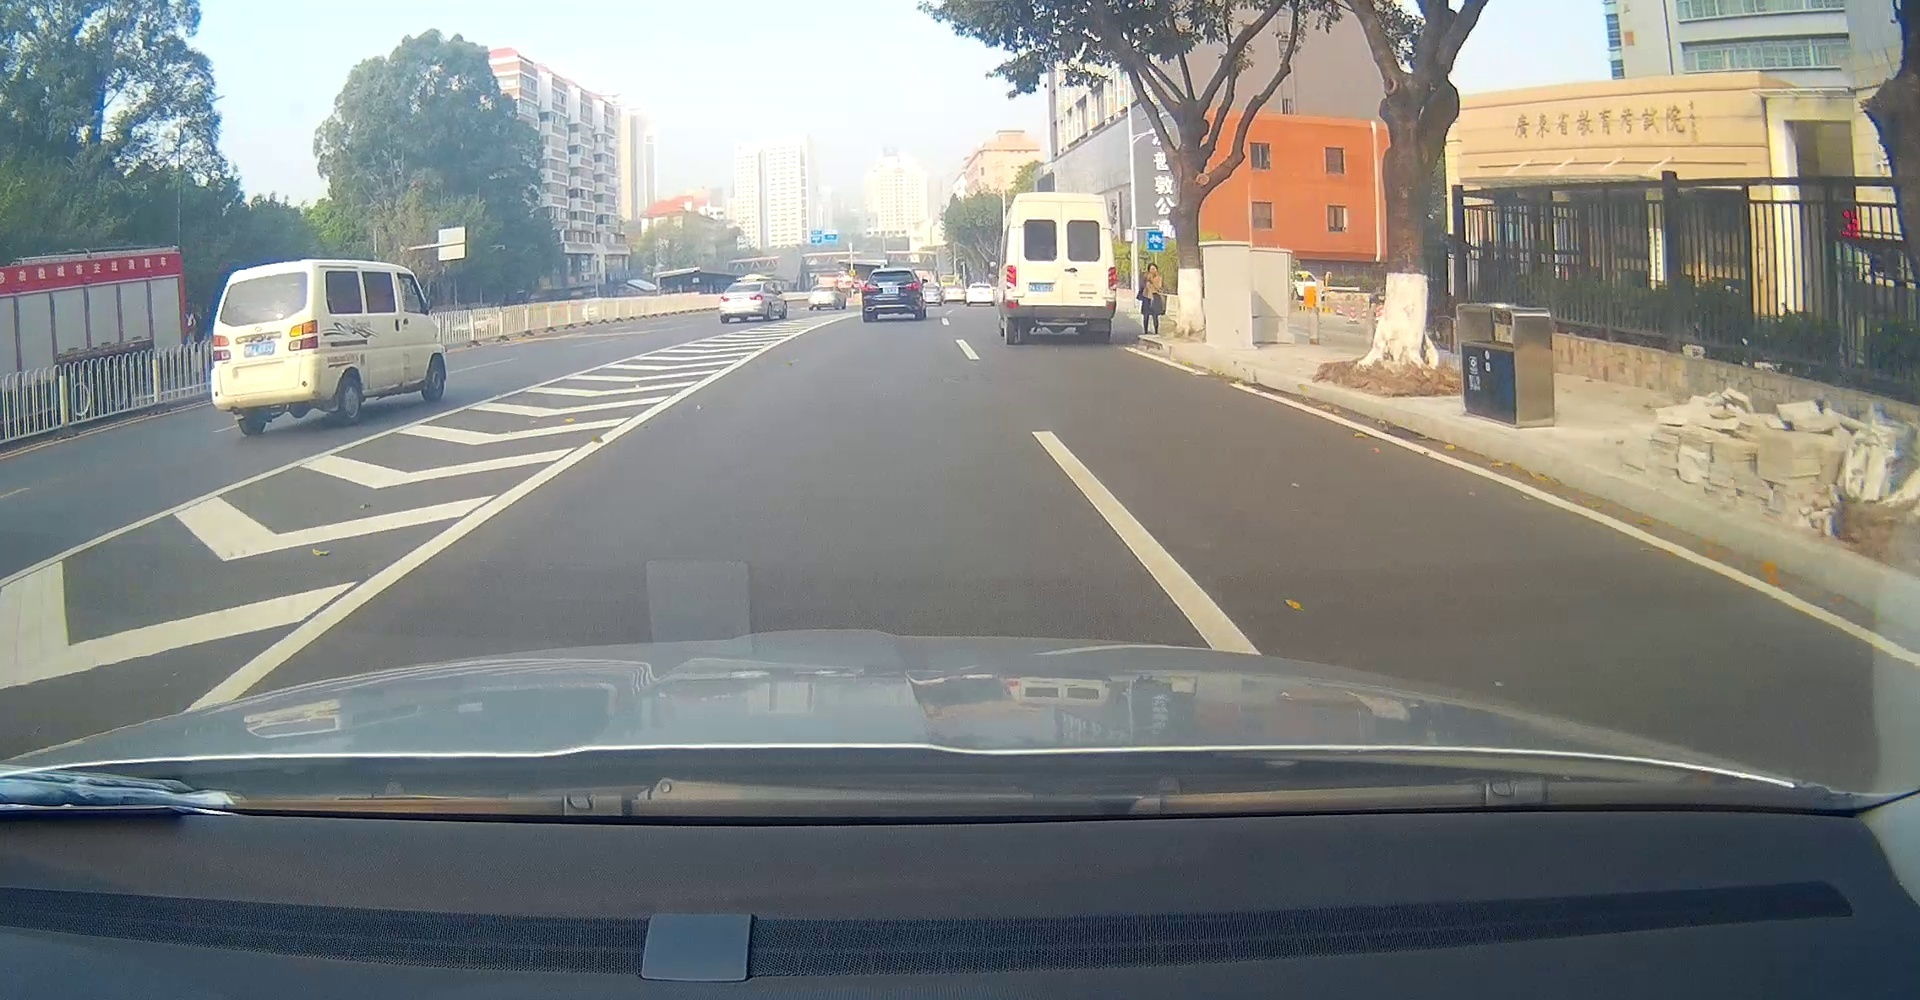L_light: (1006, 265, 1018, 308), (213, 335, 230, 360), (862, 284, 877, 292), (721, 296, 729, 302)
R_light: (290, 320, 317, 350), (1109, 268, 1115, 307), (905, 282, 918, 291), (749, 294, 762, 299)
T_light: (255, 278, 277, 284), (1057, 202, 1070, 206), (888, 272, 897, 275), (740, 284, 748, 286)
day-no: (211, 261, 321, 437), (1004, 193, 1116, 345), (861, 269, 919, 322), (717, 283, 763, 324)
